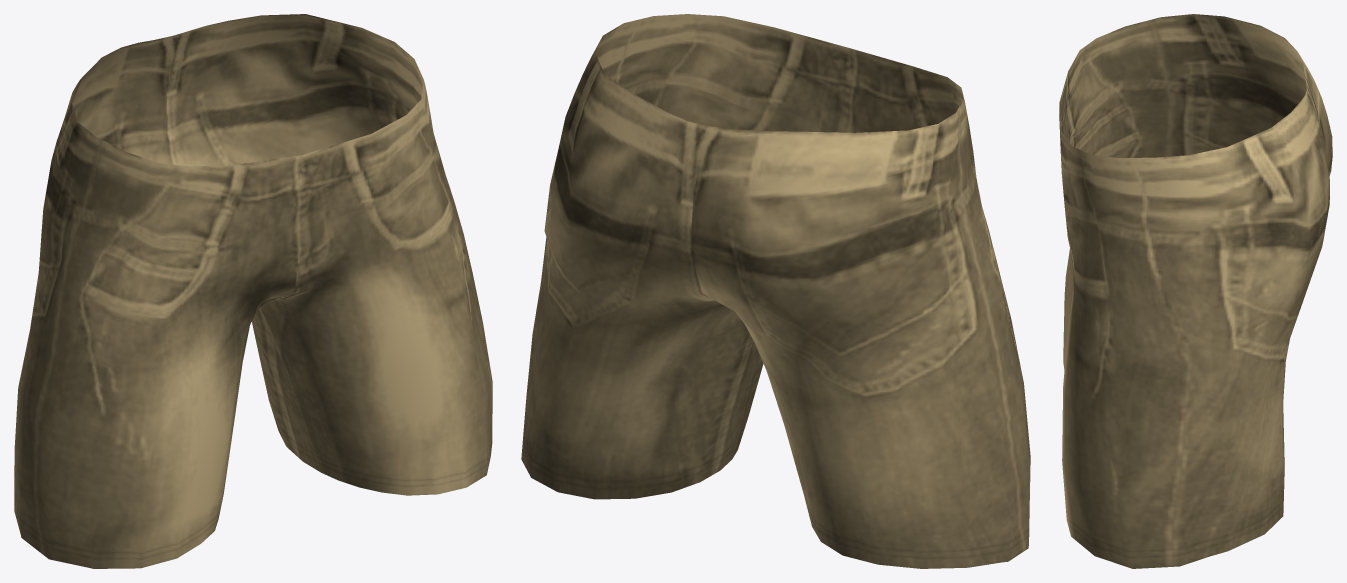
The model's file is clothing_shorts.glb.
The picture shows the model from 3 angles, left to right: view 1: azimuth 30°, elevation 25°; view 2: azimuth 150°, elevation 25°; view 3: azimuth 270°, elevation 25°; orthographic projection. The views are drawn at different scales.
Visible parts, largest first — view 1: Cloth_shorts; view 2: Cloth_shorts; view 3: Cloth_shorts.
Part boxes in pixels (x1,y1,x2,y2): Cloth_shorts: (14, 14, 492, 568); Cloth_shorts: (521, 14, 1030, 568); Cloth_shorts: (1059, 14, 1332, 568).
Bounding box in the file's own units: 0.4376 × 0.3889 × 0.2468.
1 material, 1 textured.
